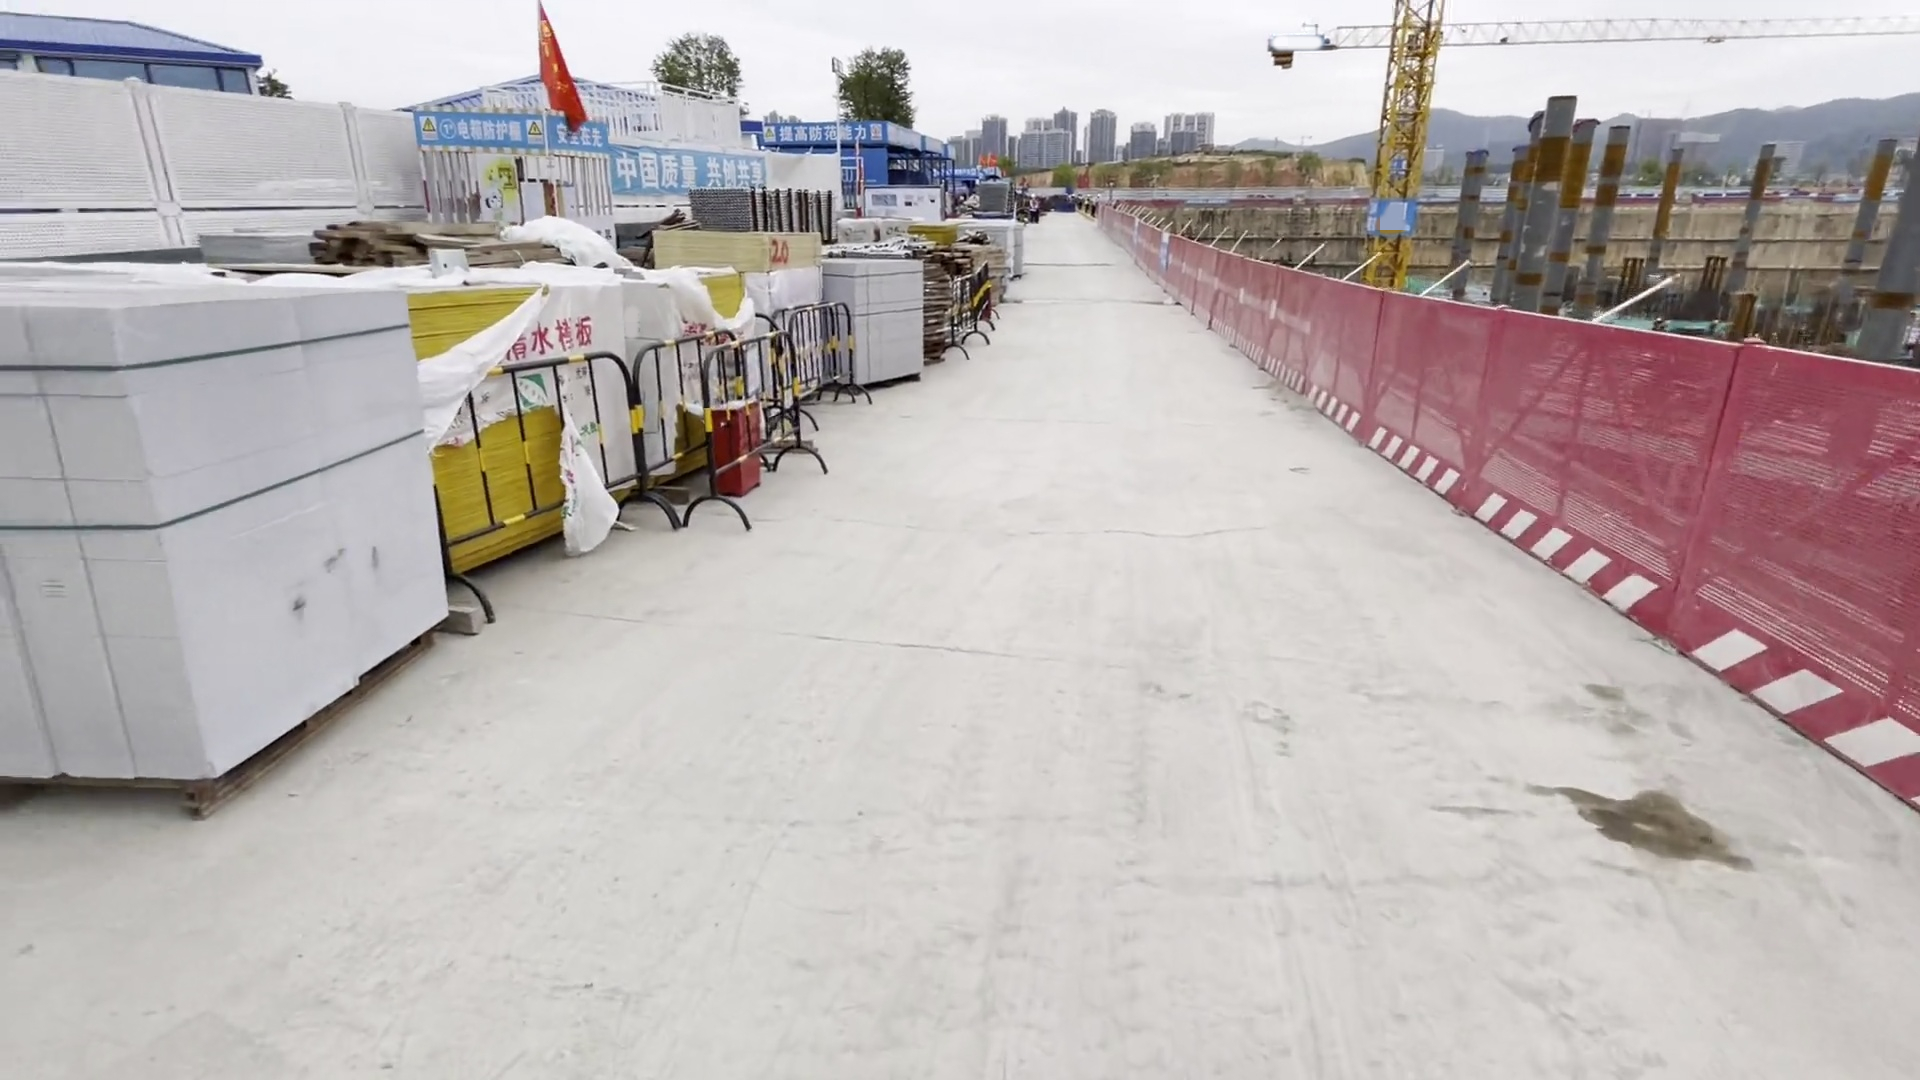board: (406, 297, 617, 520)
brick: (1, 252, 415, 806), (812, 249, 920, 401)
fence: (1345, 285, 1920, 798), (1087, 204, 1349, 407)
slogan: (411, 107, 608, 160), (611, 150, 769, 198), (752, 117, 887, 142)
